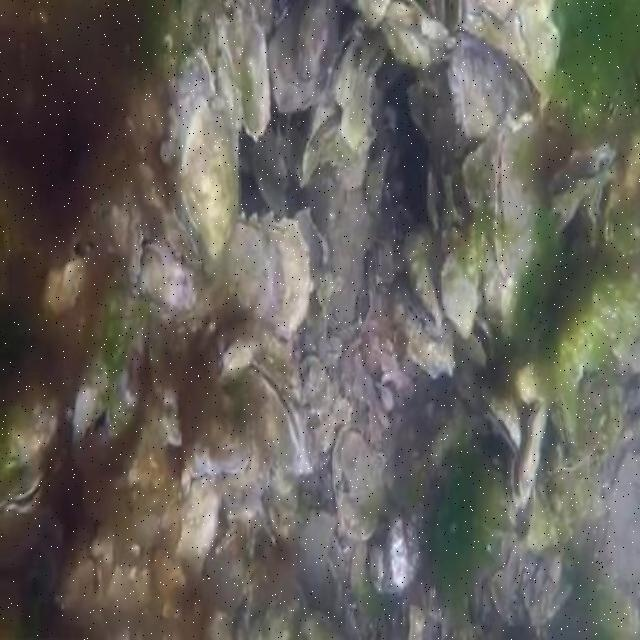Oyster-Closed: (181, 101, 237, 267), (268, 0, 338, 109), (220, 213, 280, 322), (184, 386, 255, 478), (390, 276, 455, 376), (551, 327, 604, 446), (263, 214, 311, 339), (334, 425, 386, 539), (450, 32, 507, 135), (94, 183, 146, 281), (403, 225, 443, 330), (384, 1, 450, 62), (441, 253, 481, 335), (381, 512, 418, 596), (142, 246, 188, 312), (297, 4, 328, 81), (192, 45, 215, 100), (361, 30, 389, 75), (215, 522, 240, 554)
Oyster-Open: (490, 114, 548, 281), (0, 371, 65, 513), (248, 362, 308, 476), (548, 144, 614, 227), (507, 389, 551, 512), (300, 95, 341, 182), (324, 28, 364, 105), (477, 388, 520, 456), (457, 313, 495, 370), (428, 0, 465, 27)
